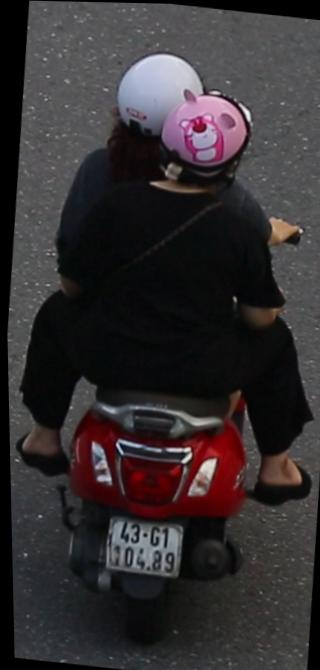LP: (97, 509, 185, 587)
helmet: (100, 39, 216, 171), (143, 83, 256, 214)
